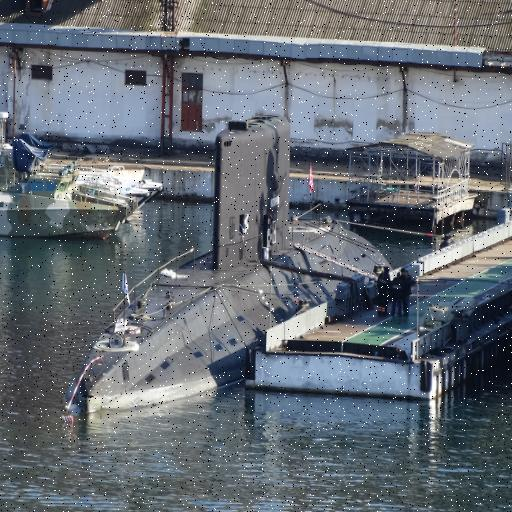submarine: (65, 115, 393, 426)
